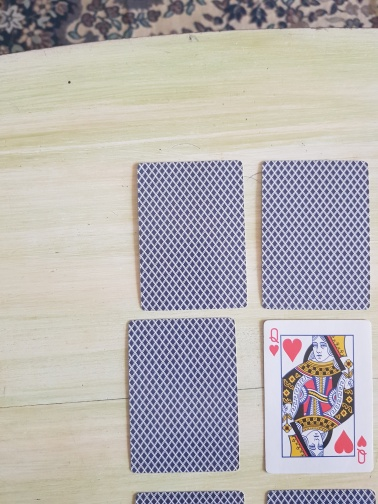queen: (263, 319, 375, 473)
